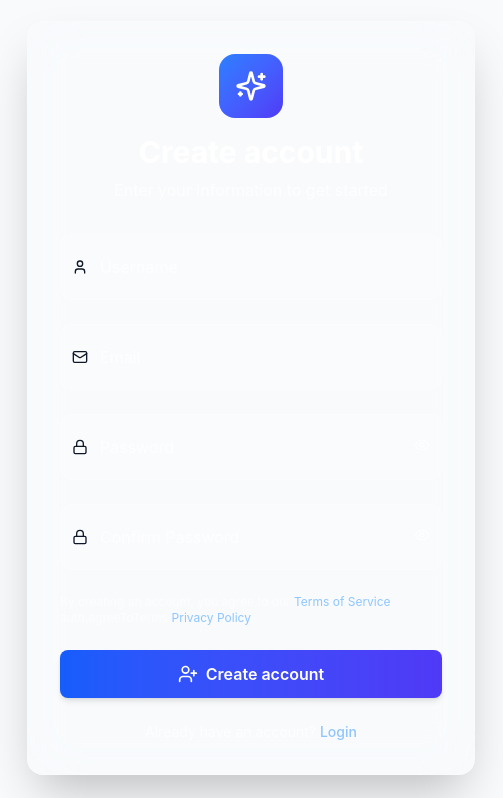
Test: RegisterPage › validates password confirmation
Type "ValidPass123!" into the password field labelled "Password" at point(251, 447), box [60,414,442,480]
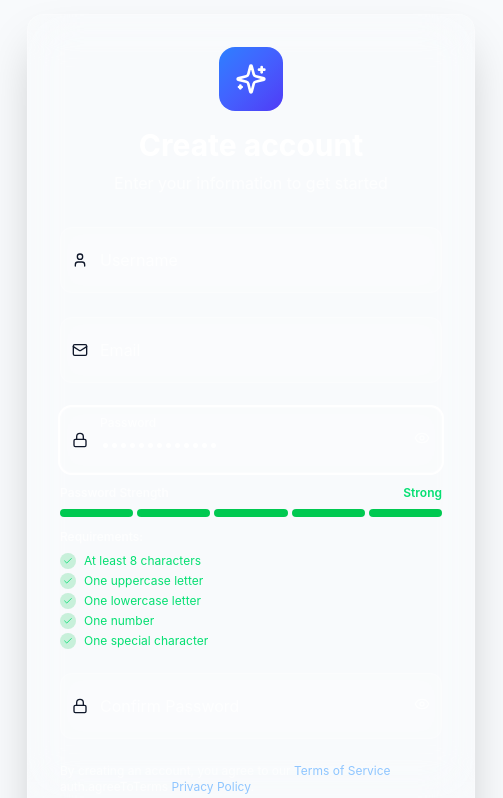
Type "DifferentPass123!" into the password field labelled "Confirm Password" at point(251, 706), box [60,673,442,739]
(page scrolled)
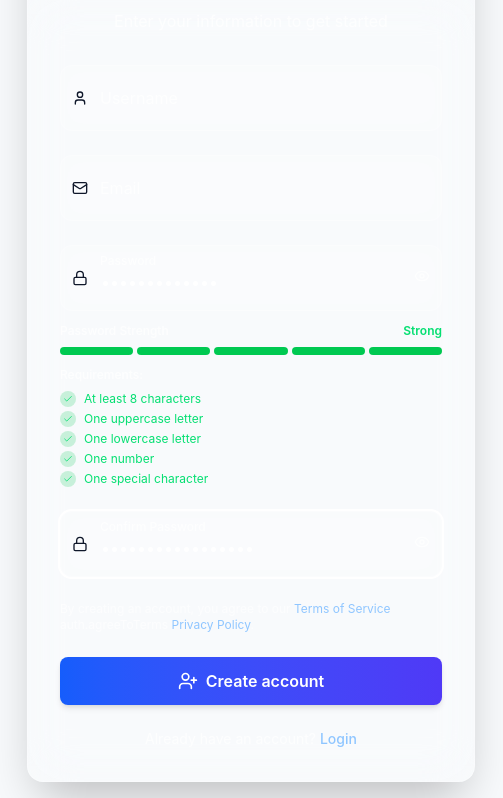
Click the button "Create account" at point(251, 681), box [60,657,442,705]
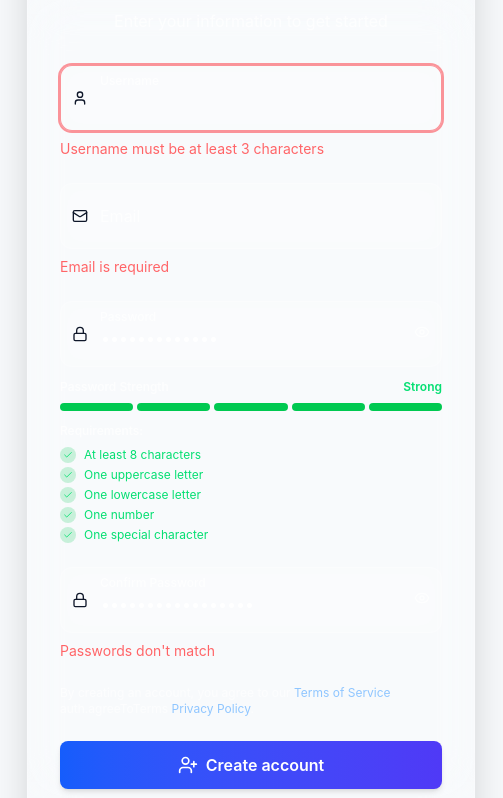
expect the text "Passwords don't match" is shown: met, box [60,642,215,659]
